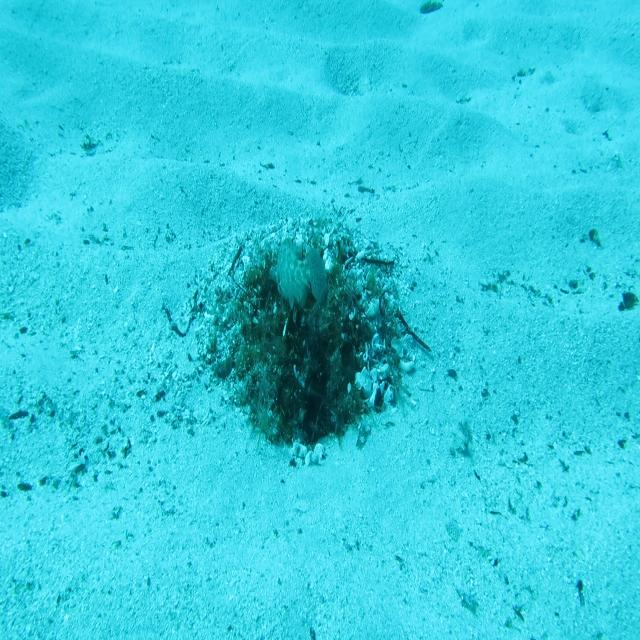NIP_CORE: (268, 236, 330, 308)
core_nest: (271, 271, 325, 309)
nest: (186, 188, 424, 471)
